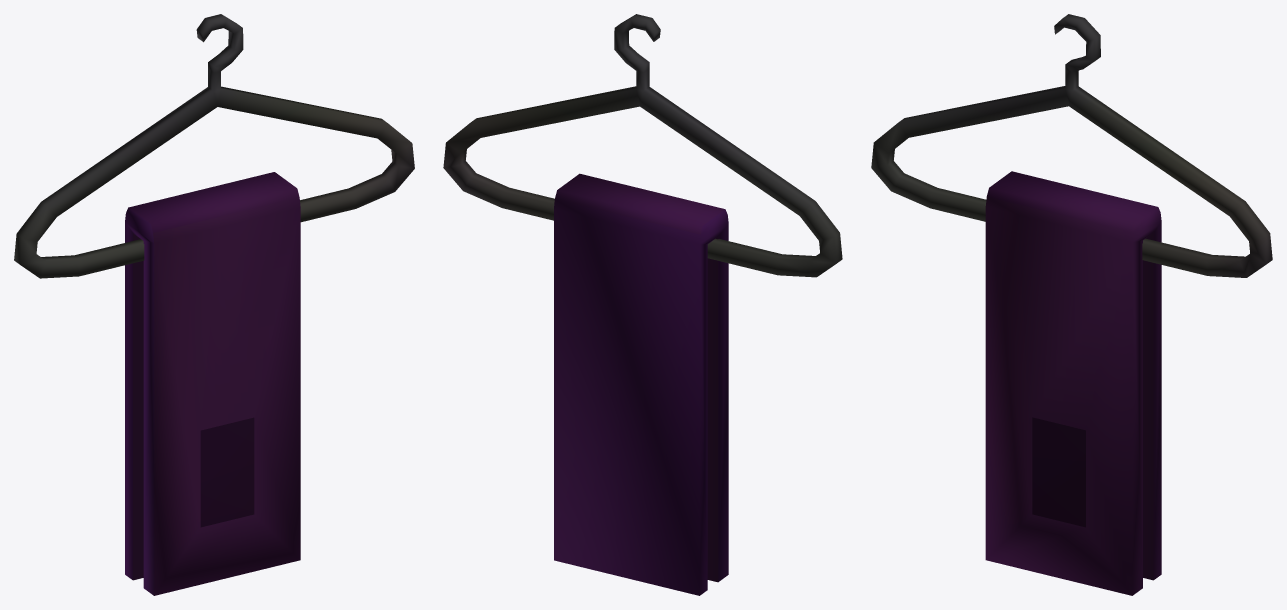
Rendered from ClothingHangerBlackPantsPurple.glb.
3 views of the same model, side by side, from view 1: azimuth 30°, elevation 25°; view 2: azimuth 150°, elevation 25°; view 3: azimuth 330°, elevation 25° (orthographic).
Visible parts, largest first — view 1: ClothingHangerBlackPantsPurple; view 2: ClothingHangerBlackPantsPurple; view 3: ClothingHangerBlackPantsPurple.
Part boxes in pixels (x1,y1,x2,y2): ClothingHangerBlackPantsPurple: (14, 14, 414, 595); ClothingHangerBlackPantsPurple: (443, 14, 842, 595); ClothingHangerBlackPantsPurple: (871, 14, 1272, 595).
Size of the model in its own units: 0.6035 by 0.8036 by 0.0773.
1 material, 1 textured.
